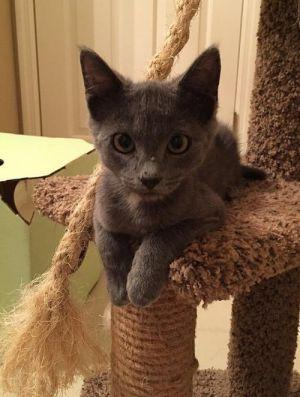rblue: (68, 40, 229, 213)
